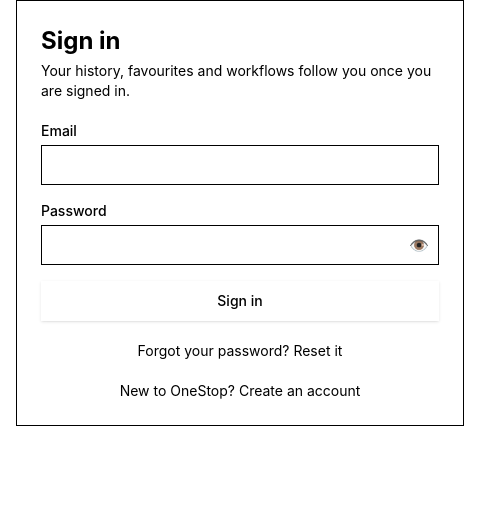
Test case: login form › shows one short message for wrong credentials
Step 1. Type "me@example.com" into the field labelled "Email" → point(240, 165), box 41,145 -> 439,185
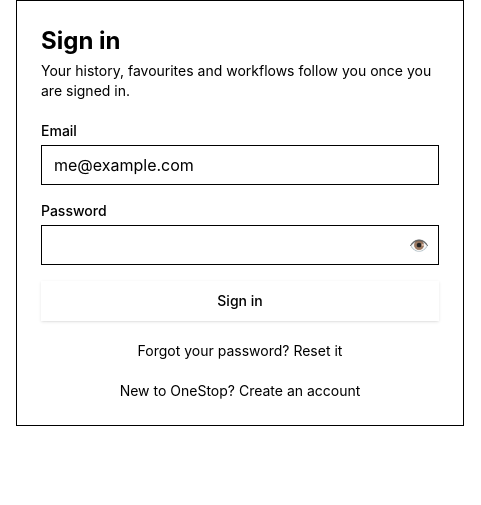
Step 2. Type "wrong-password" into the password field labelled "Password" → point(240, 245), box 41,225 -> 439,265
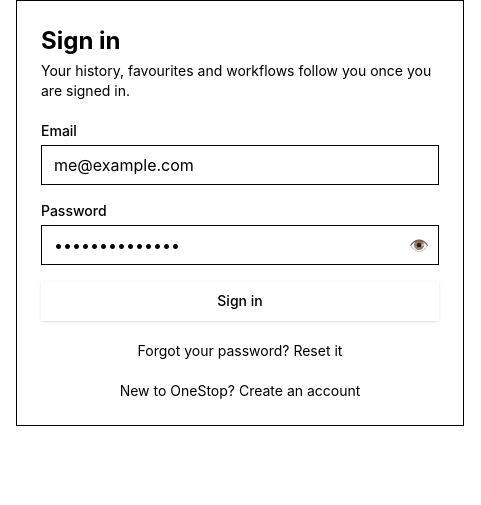
Step 3. Click the button "Sign in" → point(240, 301), box 41,281 -> 439,321
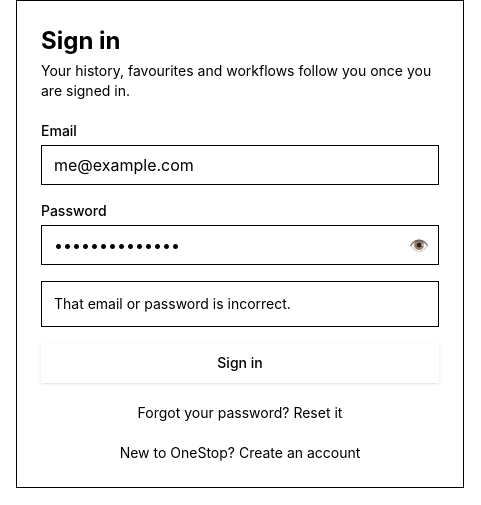
Now the message reads "That email or password is incorrect.", box 54,295 -> 291,312
